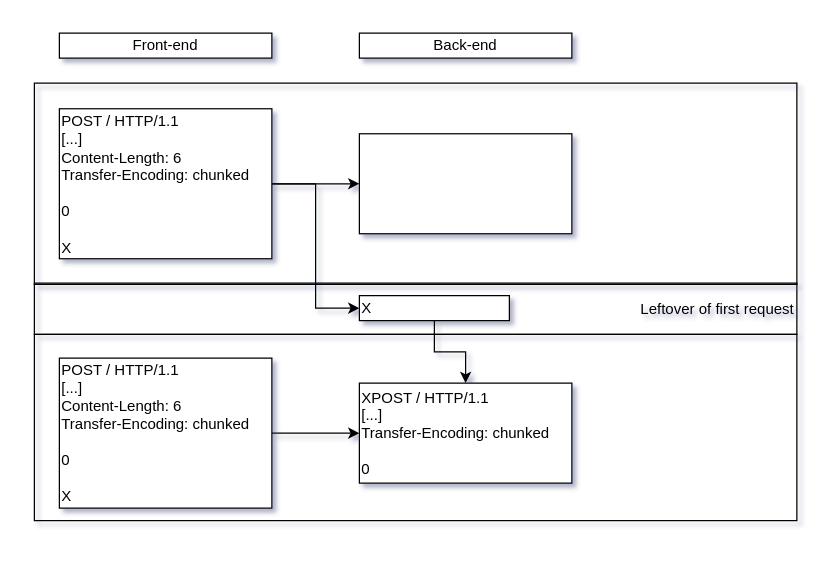
Some shapes in this 838 by 563 pixel diagram are drawn without their labels. The shapes that lost their labels are listed below. From the top down, each one's box as (x1, y1, x2, y2) in pixels, then its label:
(33, 82, 797, 284): First request
(358, 132, 572, 234): POST / HTTP/1.1 [...] Transfer-Encoding: chunked 0
(33, 333, 797, 521): Second request
